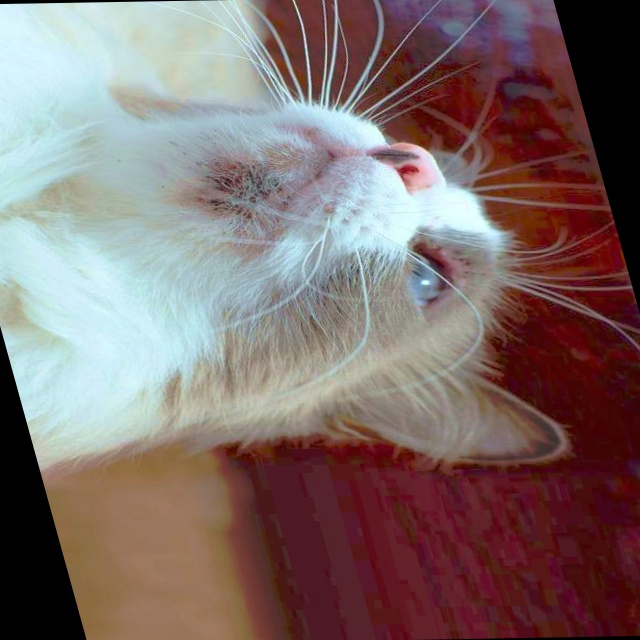acne: (183, 156, 297, 230)
